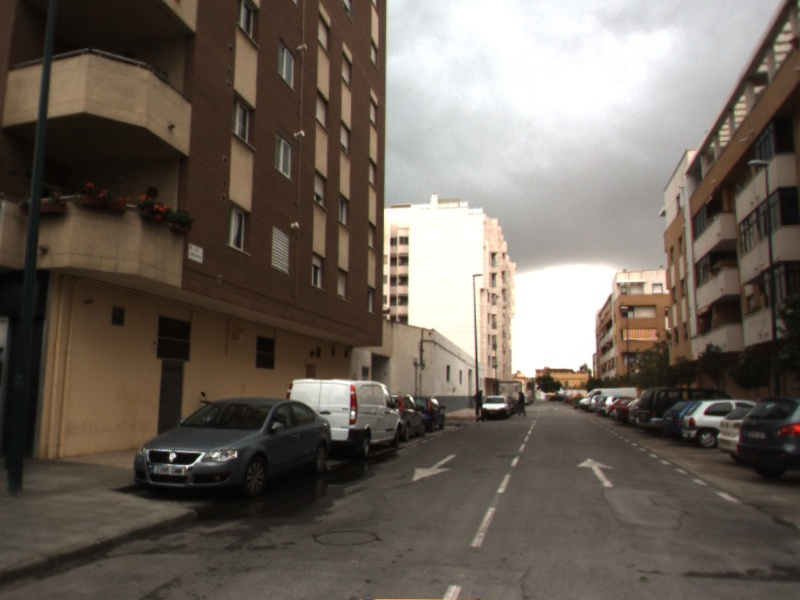STRAIGHT: (574, 456, 617, 489)
